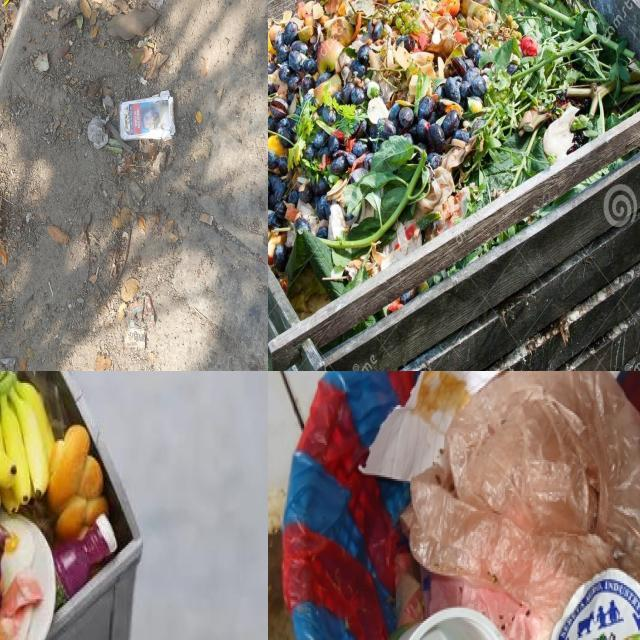Cig_pack: (119, 90, 176, 141)
Garbage: (268, 0, 640, 314), (363, 371, 640, 640), (0, 371, 123, 640)
Metal: (551, 568, 640, 640)
Plastic_Bag: (403, 371, 640, 640)
Plastic_wraper: (0, 0, 9, 5)
contaminated_waste: (17, 515, 54, 640)
